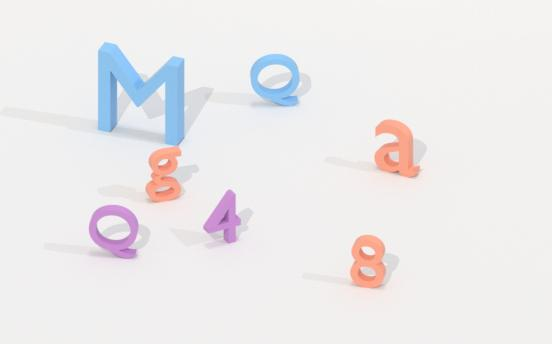4: (196, 186, 251, 249)
8: (346, 234, 390, 291)
M-hoa: (95, 37, 194, 145)
a: (370, 117, 422, 183)
g: (144, 142, 190, 207)
q: (246, 52, 306, 111), (86, 203, 143, 262)
